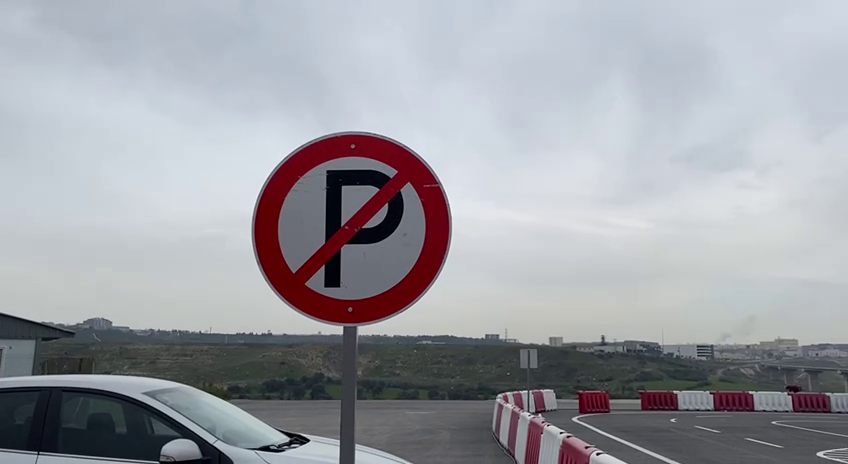noparking: (245, 127, 458, 330)
